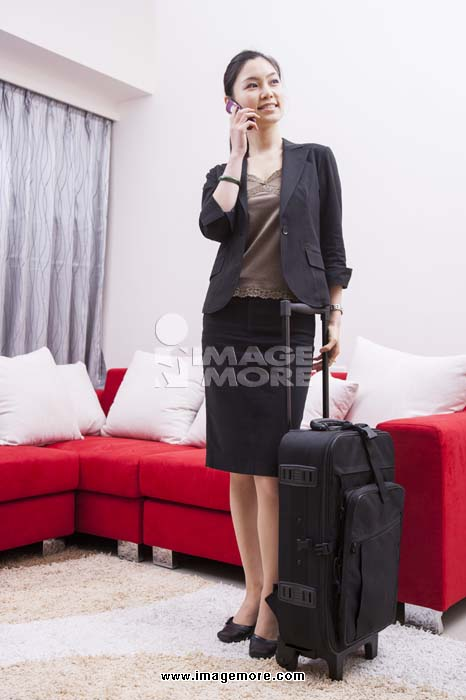talk: (226, 70, 283, 152)
